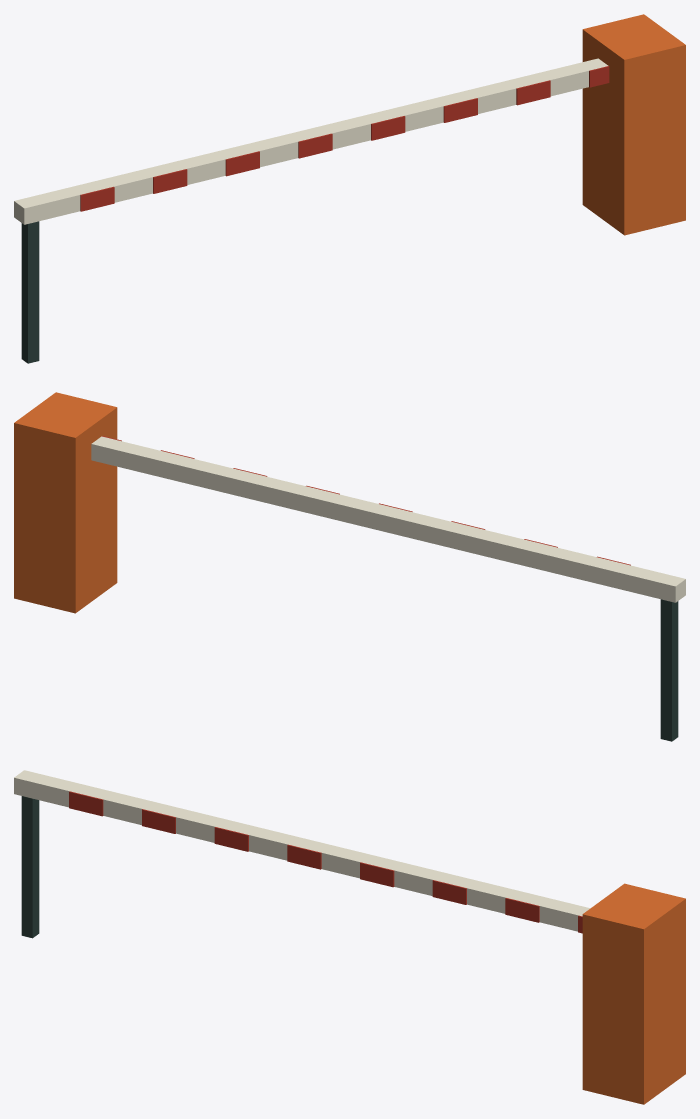
File: ExitBarrier.obj
3 views of the same model, one above another, from view 1: azimuth 30°, elevation 25°; view 2: azimuth 150°, elevation 25°; view 3: azimuth 330°, elevation 25° (orthographic).
Visible parts, largest first — view 1: ExitBarrier; view 2: ExitBarrier; view 3: ExitBarrier.
Boxes of the visible parts, <box> form: ExitBarrier: <box>14,14,685,363</box>; ExitBarrier: <box>14,392,685,741</box>; ExitBarrier: <box>14,770,685,1104</box>.
Bounding box in the file's own units: 5.77 × 1.5 × 0.65.
